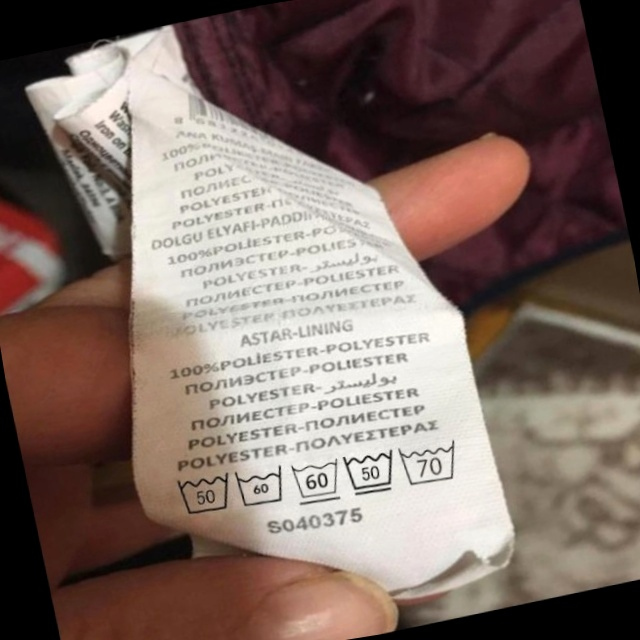50C: (168, 461, 240, 524), (339, 442, 404, 502)
60C: (287, 450, 350, 509), (231, 458, 294, 515)
70C: (396, 433, 469, 491)
